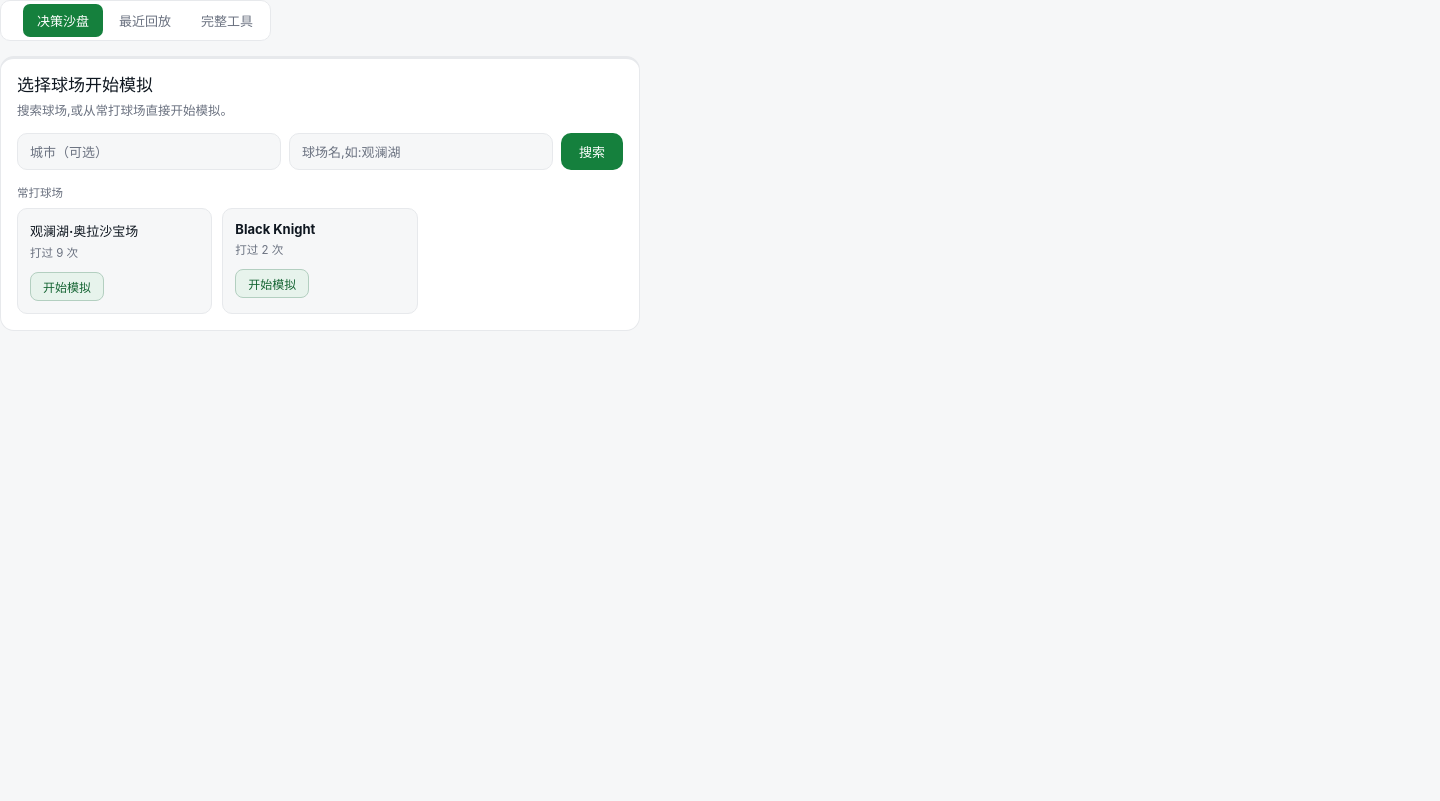
Test: LivePage tabs › 最近回放 lists recent rounds as 日期/球场/杆数/±标准杆 rows
The width and height of the screenshot is (1440, 801).
Step 1. Click the button "最近回放" → (145,20), box [105,4,185,37]
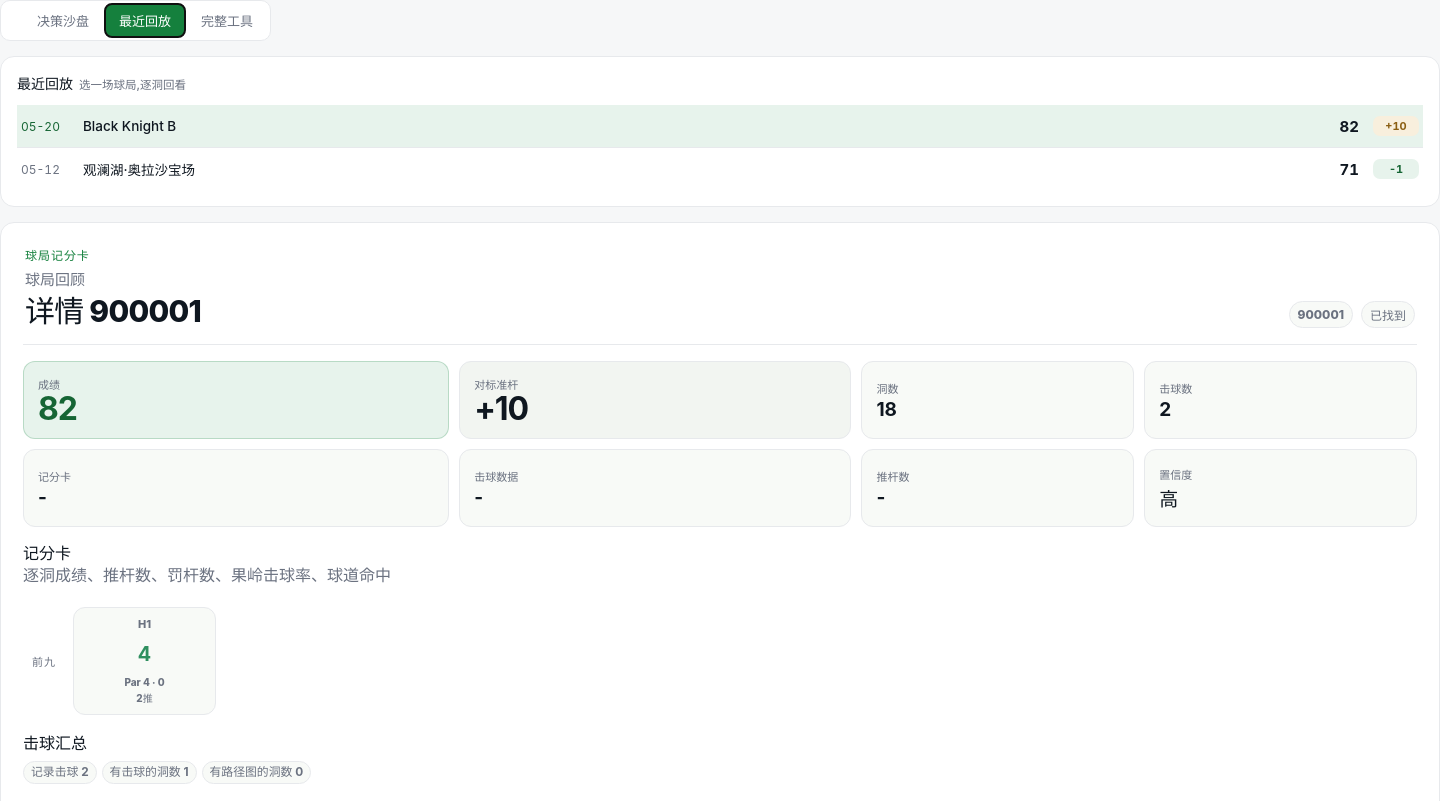
Expected: the heading "选择球场开始模拟" is gone
Expected: the button with aria-label "回放 Black Knight B 05-20" is shown, [17,105,1423,148]
Expected: the text "05-20" is shown, [21,118,60,134]
